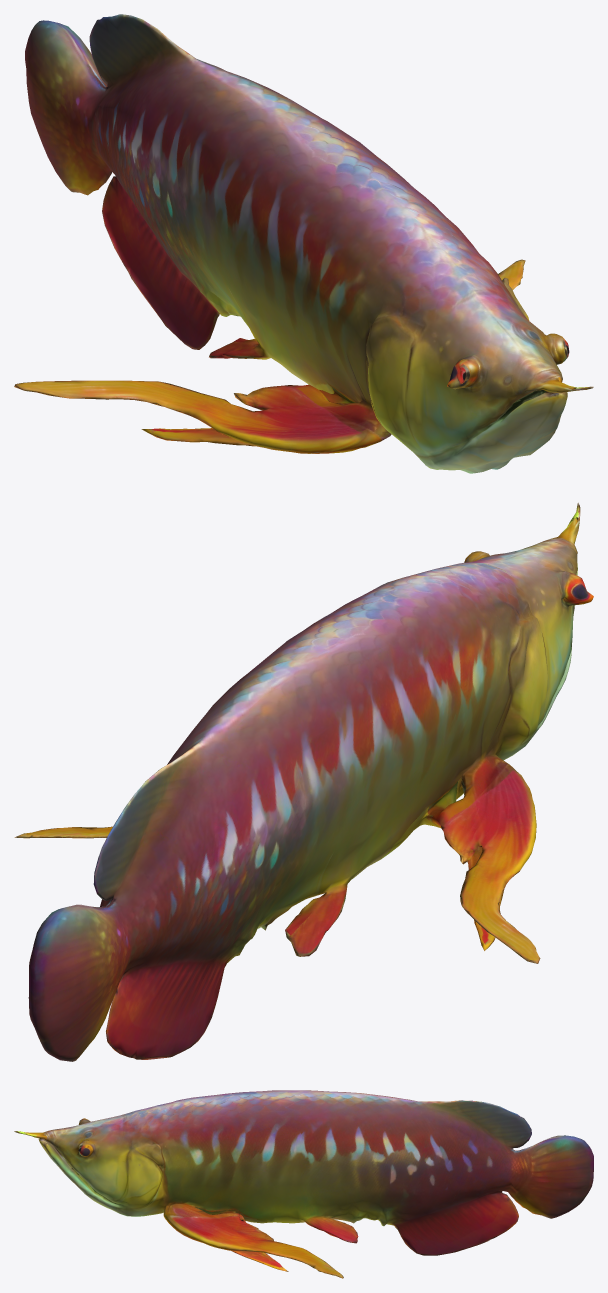
File: Arowana_0604072124_texture.glb
3 renders of one model, top to bottom at view 1: azimuth 30°, elevation 25°; view 2: azimuth 150°, elevation 25°; view 3: azimuth 270°, elevation 25°, orthographic. The views are drawn at different scales.
Size of the model in its own units: 1.05 by 0.5975 by 1.94.
1 material, 1 textured.
